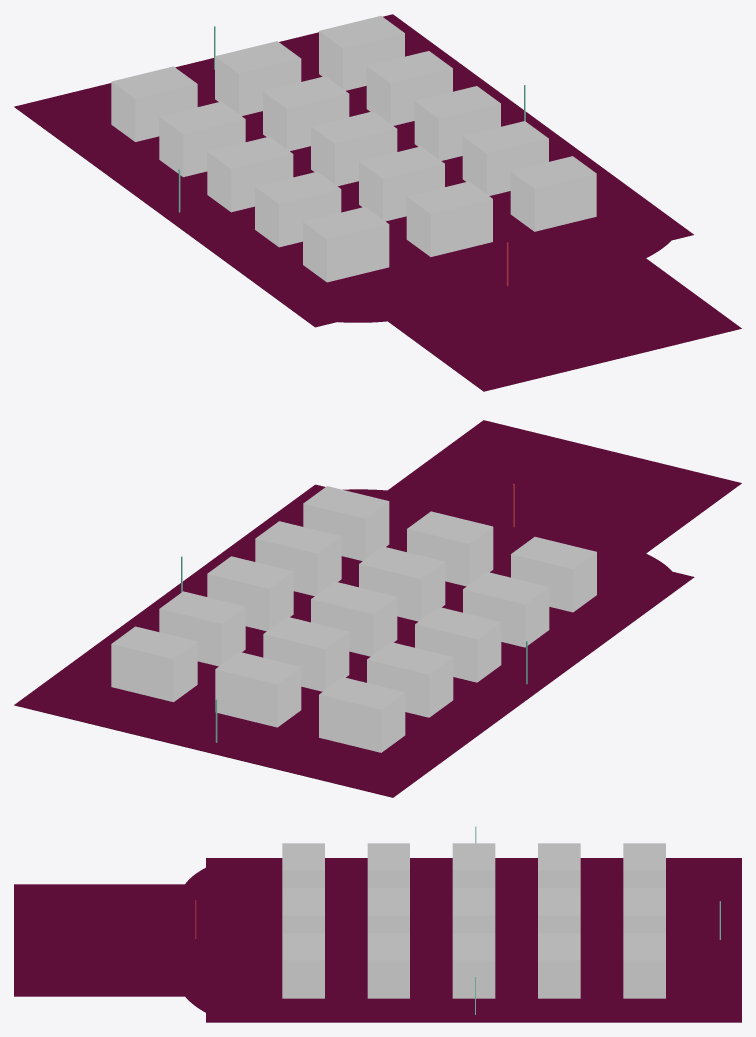
File: njc-l2-hall.glb
3 views of the same model, one above another, from view 1: azimuth 30°, elevation 25°; view 2: azimuth 150°, elevation 25°; view 3: azimuth 270°, elevation 25° (orthographic). The views are drawn at different scales.
Visible parts, largest first — view 1: Base, H3, H1, H2, H15, H12, H6, H9, H4, H7, H11, H12.001 (+4 smaller); view 2: Base, H13, H15, H14, H12, H9, H6, H3, H11, H8, H1, H5 (+4 smaller); view 3: Base, H7, H1, H4, H11, H13, H8, H9, H2, H3, H12, H12.001 (+4 smaller).
Part boxes in pixels (left/top/right/bottom): Base: left=14, top=14, right=741, bottom=391; H3: left=303, top=206, right=389, bottom=282; H1: left=510, top=156, right=596, bottom=231; H2: left=406, top=181, right=492, bottom=256; H15: left=111, top=66, right=197, bottom=141; H12: left=159, top=101, right=245, bottom=177; H6: left=255, top=171, right=341, bottom=247; H9: left=207, top=136, right=293, bottom=212; H4: left=462, top=121, right=548, bottom=195; H7: left=414, top=86, right=500, bottom=160; H11: left=366, top=51, right=452, bottom=125; H12.001: left=263, top=76, right=349, bottom=151; Base: left=14, top=420, right=741, bottom=797; H13: left=111, top=626, right=197, bottom=702; H15: left=319, top=677, right=405, bottom=752; H14: left=215, top=651, right=301, bottom=727; H12: left=367, top=642, right=453, bottom=717; H9: left=415, top=607, right=501, bottom=682; H6: left=463, top=572, right=549, bottom=647; H3: left=511, top=536, right=596, bottom=612; H11: left=159, top=591, right=245, bottom=666; H8: left=311, top=581, right=397, bottom=656; H1: left=303, top=486, right=389, bottom=560; H5: left=359, top=546, right=445, bottom=621; Base: left=14, top=858, right=741, bottom=1022; H7: left=452, top=933, right=495, bottom=998; H1: left=282, top=933, right=324, bottom=998; H4: left=367, top=933, right=409, bottom=998; H11: left=538, top=933, right=580, bottom=998; H13: left=623, top=933, right=665, bottom=998; H8: left=452, top=888, right=495, bottom=933; H9: left=452, top=843, right=495, bottom=888; H2: left=282, top=888, right=324, bottom=933; H3: left=282, top=843, right=324, bottom=888; H12: left=538, top=843, right=580, bottom=888; H12.001: left=538, top=888, right=580, bottom=933.
Bounding box in the file's own units: 1.83 × 0.2 × 3.42.
